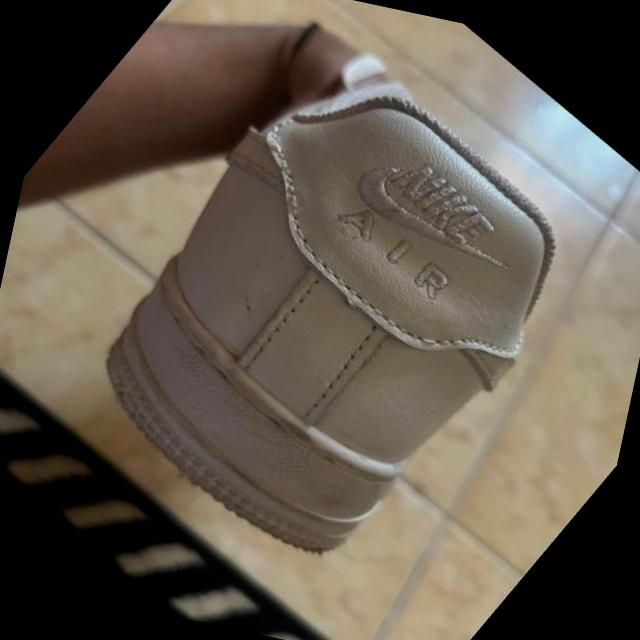nike_fake_airforce: (15, 0, 640, 632)
